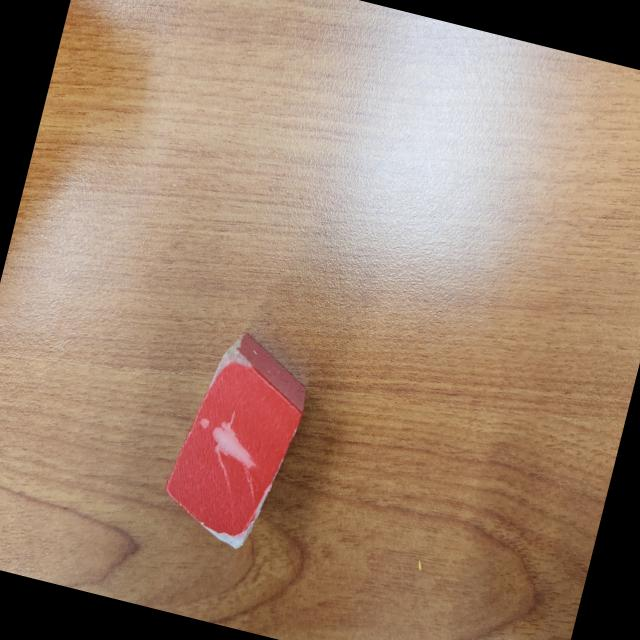broken: (154, 322, 319, 558)
